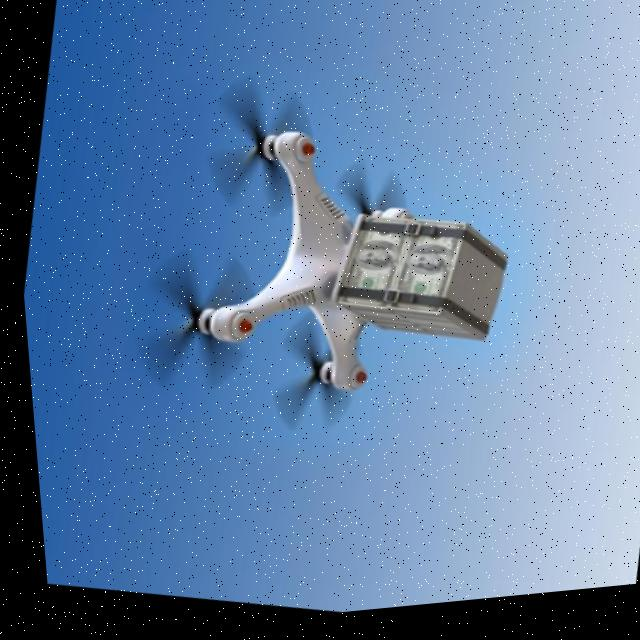drones: (75, 37, 571, 519)
